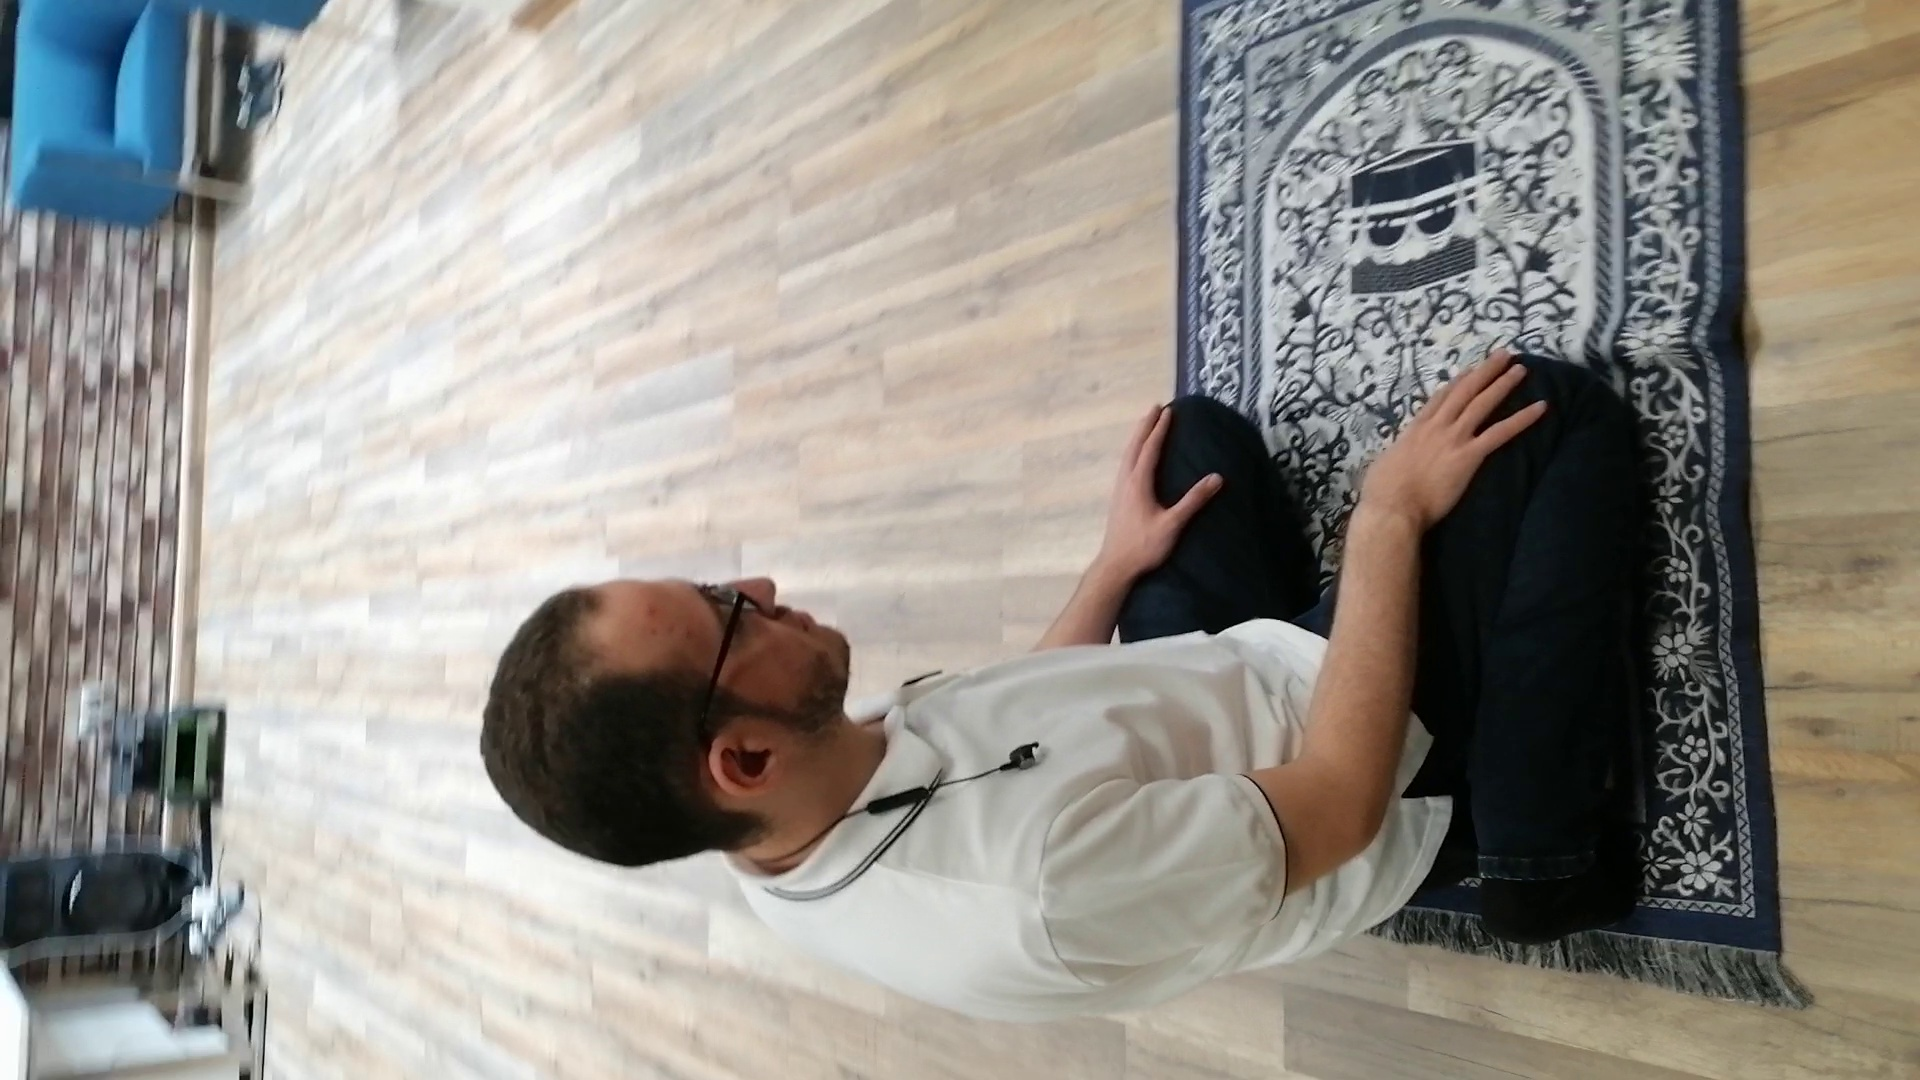sitting: (458, 338, 1684, 1025)
